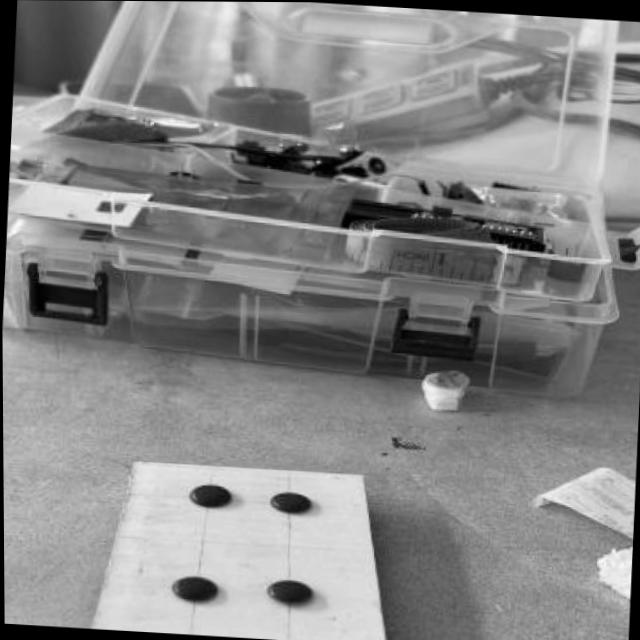braiile: (92, 460, 382, 640)
